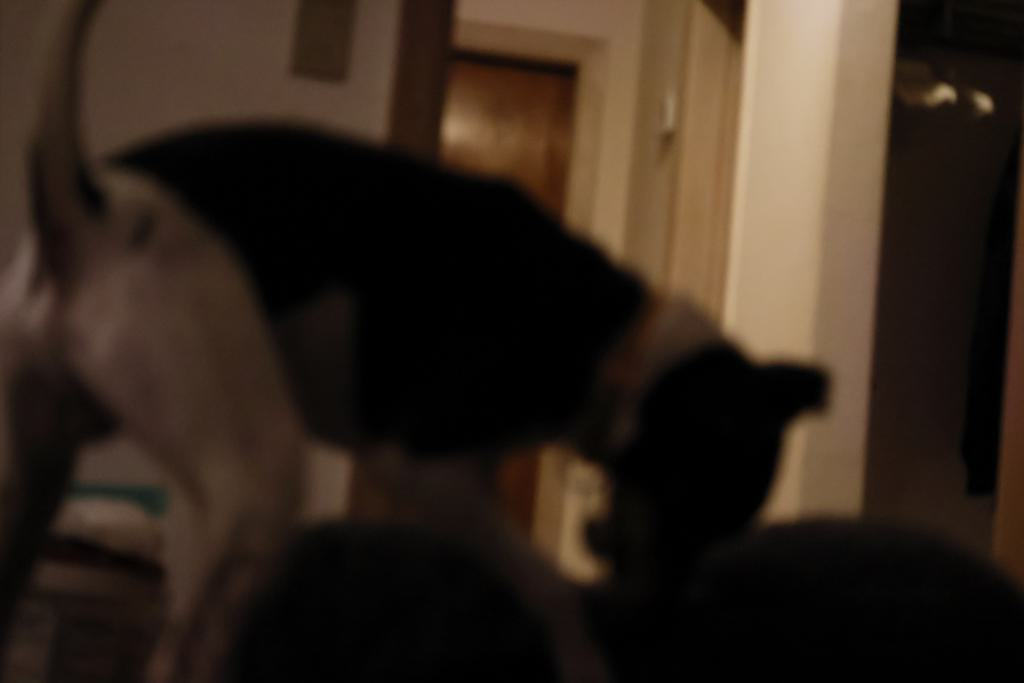Dog: (0, 0, 845, 683)
